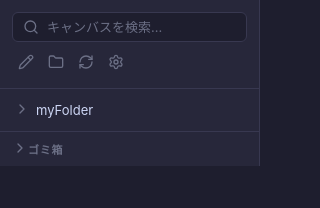
Scenario: Sidebar › フォルダの展開/折りたたみ › 空のフォルダを展開すると「空のフォルダ」と表示される
Click the text "myFolder": x=54, y=110 [14,101,93,118]
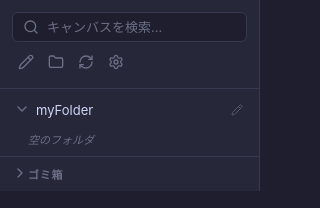
Expected: the text "空のフォルダ" is shown, [28,133,94,147]
